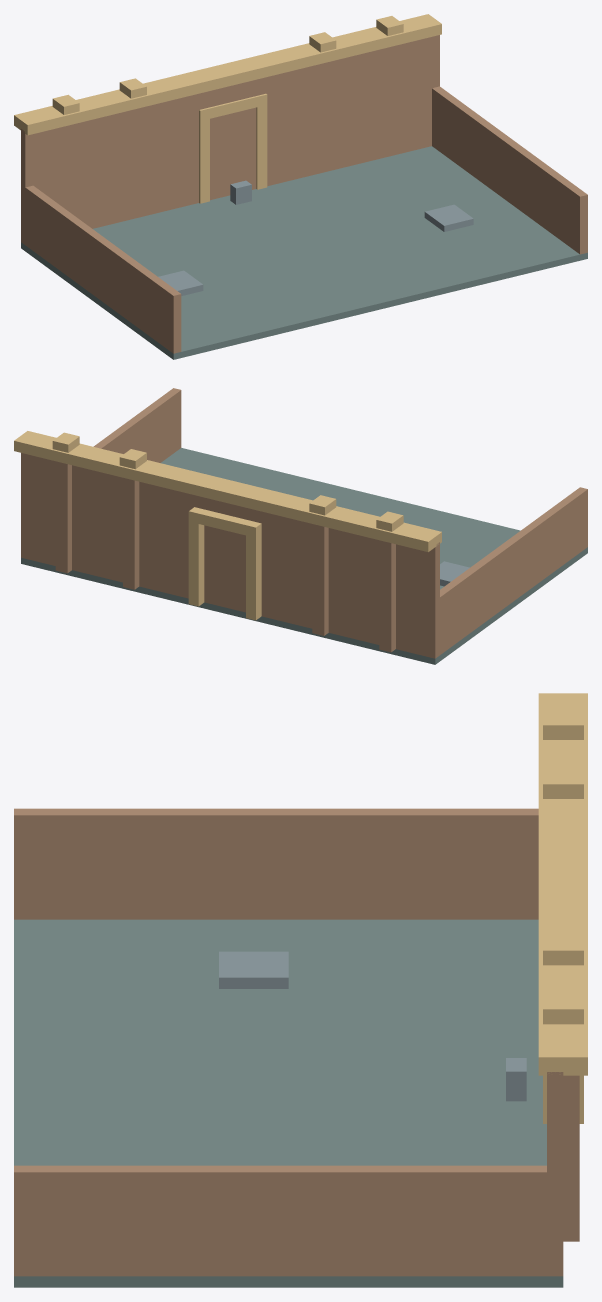
Rendered from ReleaseACourtyard.glb.
The picture shows the model from 3 angles, top to bottom: view 1: azimuth 30°, elevation 25°; view 2: azimuth 150°, elevation 25°; view 3: azimuth 270°, elevation 25°; orthographic projection. The views are drawn at different scales.
Parts seen in each view (by area): view 1: Sandstone walls, Courtyard floor, Ochre lintels and trim, Raised display stones; view 2: Sandstone walls, Ochre lintels and trim, Courtyard floor, Raised display stones; view 3: Courtyard floor, Sandstone walls, Ochre lintels and trim, Raised display stones.
Part boxes in pixels (<box>): Sandstone walls: <box>21,35,587,353</box>; Courtyard floor: <box>21,146,587,359</box>; Ochre lintels and trim: <box>14,14,441,203</box>; Raised display stones: <box>158,180,473,295</box>; Sandstone walls: <box>21,388,587,658</box>; Ochre lintels and trim: <box>14,431,441,620</box>; Courtyard floor: <box>21,448,587,664</box>; Raised display stones: <box>440,561,469,586</box>; Courtyard floor: <box>14,919,563,1287</box>; Sandstone walls: <box>14,808,579,1276</box>; Ochre lintels and trim: <box>538,693,587,1123</box>; Raised display stones: <box>219,951,526,1101</box>.
Size of the model in its own units: 210 by 66 by 140.
